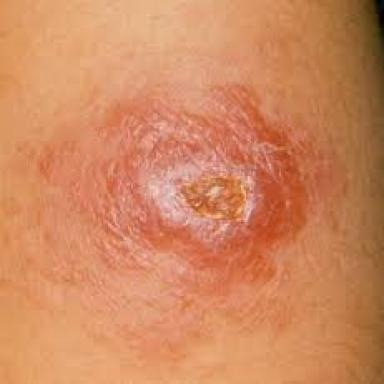Leishmanios: (111, 86, 303, 280)
